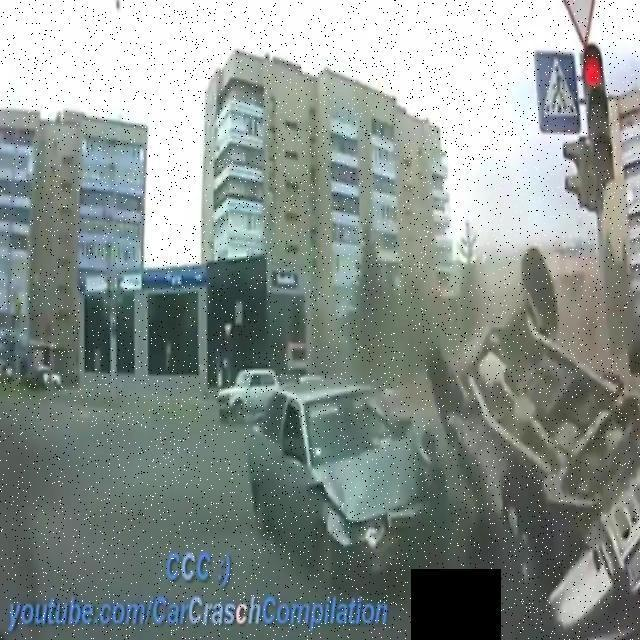multiple_accident: (198, 230, 640, 625)
